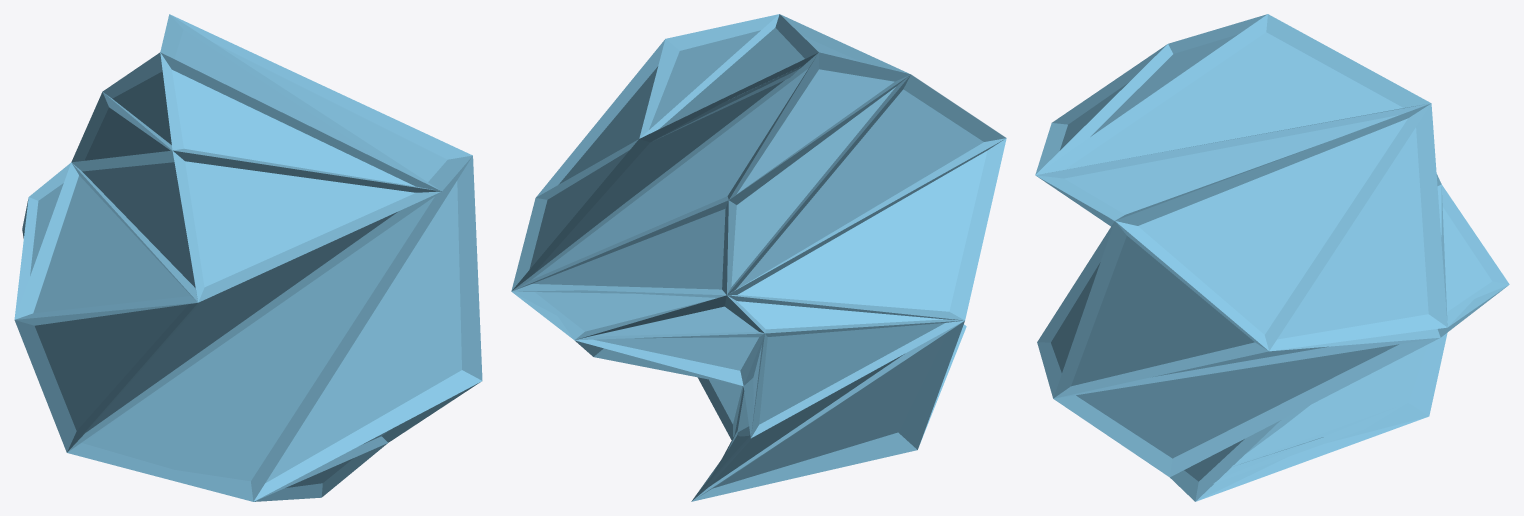
3 views of the same model, side by side, from view 1: azimuth 30°, elevation 25°; view 2: azimuth 150°, elevation 25°; view 3: azimuth 270°, elevation 25° (orthographic). The views are drawn at different scales.
Parts seen in each view (by area): view 1: Icosphere_2; view 2: Icosphere_2; view 3: Icosphere_2.
Boxes of the visible parts, bbox=[...] form: Icosphere_2: bbox=[14, 14, 482, 501]; Icosphere_2: bbox=[511, 14, 1006, 501]; Icosphere_2: bbox=[1035, 14, 1509, 501].
Bounding box in the file's own units: 1.5 × 1.5 × 1.5.
